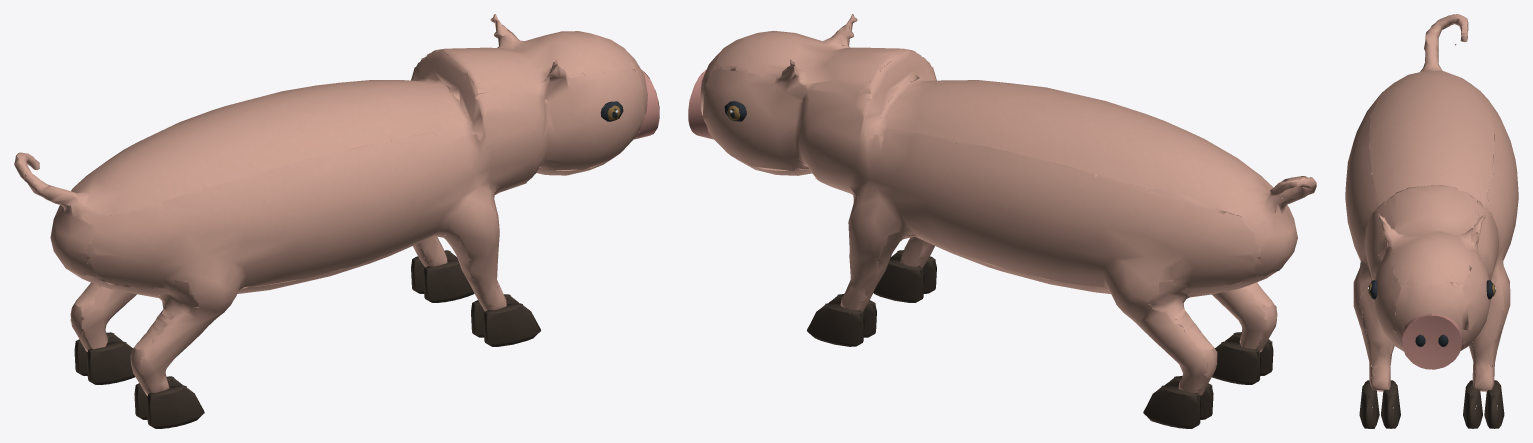
The model's file is pig.glb.
3 renders of one model, left to right at view 1: azimuth 30°, elevation 25°; view 2: azimuth 150°, elevation 25°; view 3: azimuth 270°, elevation 25°, orthographic. The views are drawn at different scales.
Visible parts, largest first — view 1: Cloven tapered hoof; view 2: Cloven tapered hoof; view 3: Cloven tapered hoof.
Boxes of the visible parts, box(x1,y1,x2,y2) form: Cloven tapered hoof: box(14, 14, 659, 428); Cloven tapered hoof: box(688, 14, 1316, 428); Cloven tapered hoof: box(1345, 14, 1518, 428).
Size of the model in its own units: 1.81 by 0.7435 by 0.5097.
Materials: 6 (6 with a texture image).
